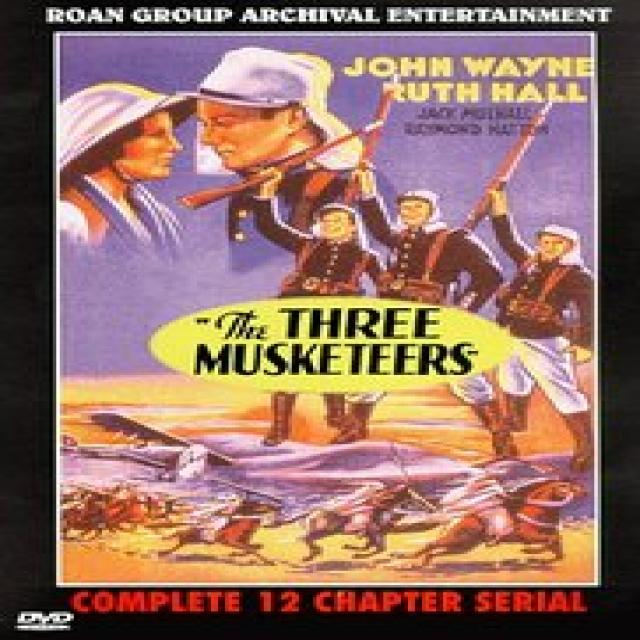movie-judul: (187, 306, 482, 379)
picture: (57, 45, 603, 303), (54, 392, 600, 584), (486, 299, 598, 396)
